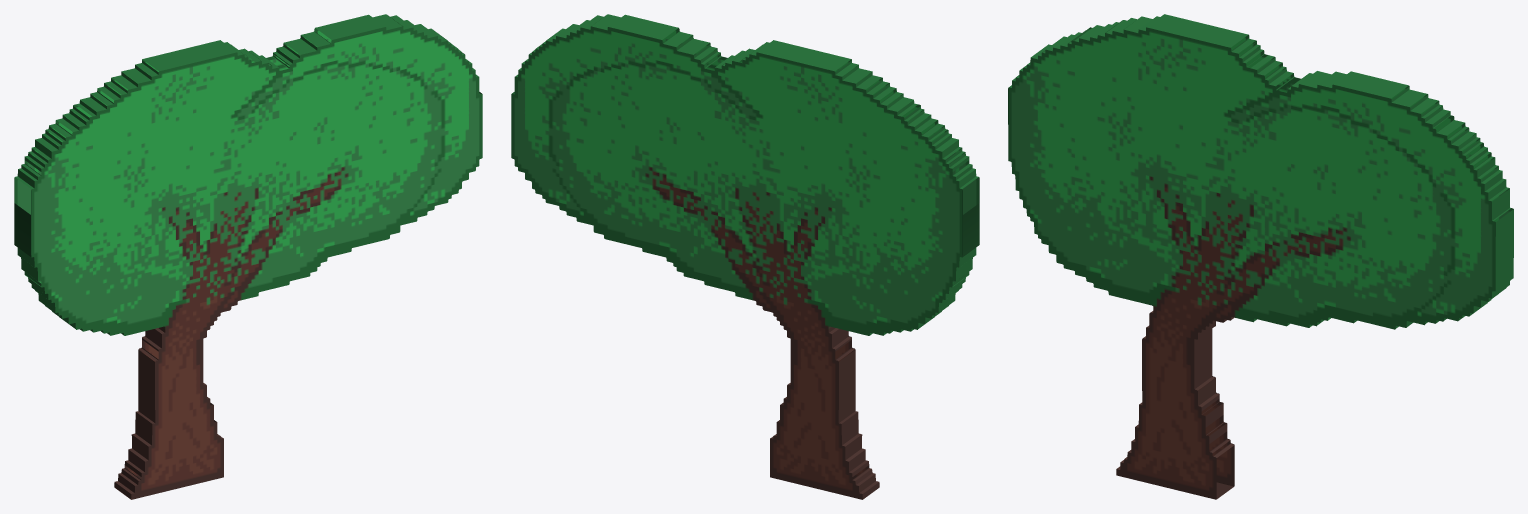
File: Big Tree.fbx
The picture shows the model from 3 angles, left to right: view 1: azimuth 30°, elevation 25°; view 2: azimuth 150°, elevation 25°; view 3: azimuth 330°, elevation 25°; orthographic projection. The views are drawn at different scales.
Visible parts, largest first — view 1: objec-5_3000px.007; view 2: objec-5_3000px.007; view 3: objec-5_3000px.007.
Boxes of the visible parts, bbox=[...] form: objec-5_3000px.007: bbox=[14, 14, 482, 499]; objec-5_3000px.007: bbox=[511, 14, 979, 499]; objec-5_3000px.007: bbox=[1008, 14, 1513, 499].
Size of the model in its own units: 43.65 by 38.95 by 2.8.
